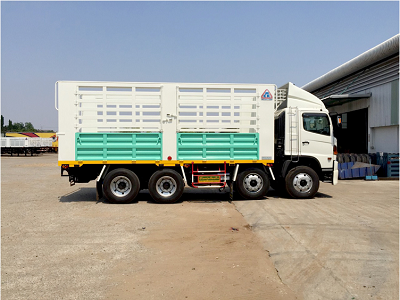truck: (54, 79, 339, 204)
